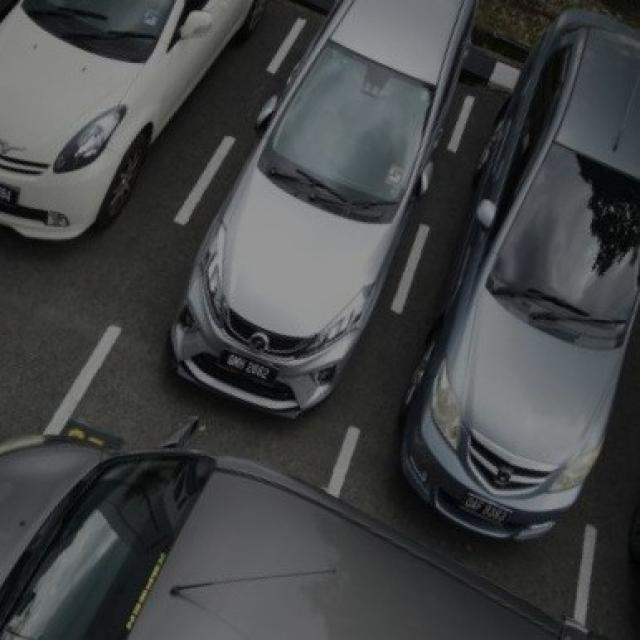Legalparking: (167, 0, 473, 416), (0, 0, 267, 245), (418, 288, 612, 532)
illegalparking: (0, 418, 572, 638)
